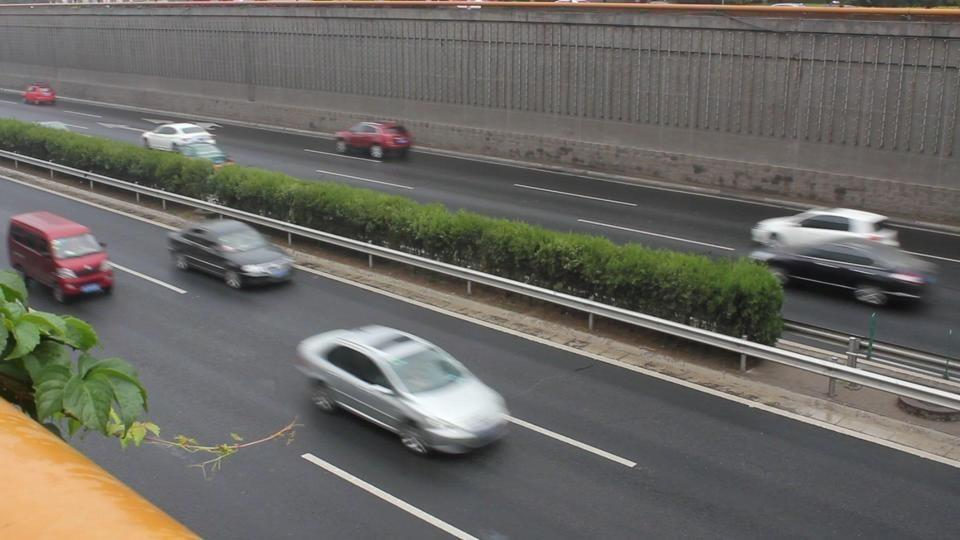car: (296, 324, 505, 458), (748, 207, 940, 308), (7, 210, 115, 303), (168, 219, 296, 291), (750, 206, 910, 251), (333, 120, 415, 161), (141, 123, 222, 155), (21, 83, 58, 105)
